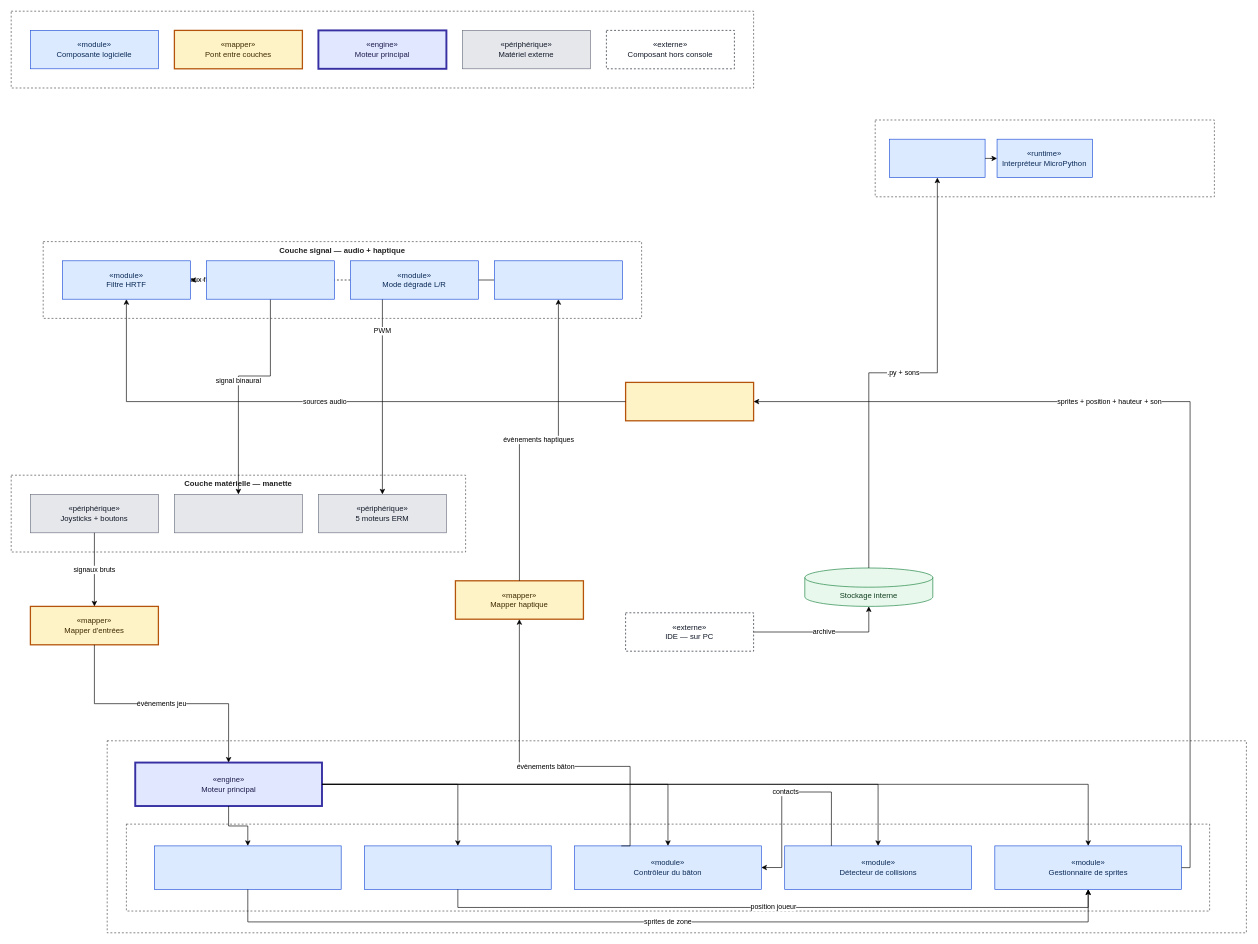
Image size: 1258x944. Some labels were removed from this diagram. The box of each missing label's shape, as (x1, y1, x2, y2) in pixels:
Couche application — mini-jeux utilisateur: (875, 119, 1214, 197)
Couche cœur du jeu — Game Engine: (107, 740, 1246, 933)
Légende: (11, 11, 754, 88)
«mapper» Mapper sprite → audio: (625, 381, 754, 421)
«module» Chargeur de mini-jeu: (889, 139, 985, 178)
«module» Contrôleur du joueur: (364, 845, 551, 889)
«module» Gestionnaire de scènes: (154, 845, 341, 889)
«module» Mixeur audio: (206, 260, 334, 299)
«module» Module haptique: (494, 260, 622, 299)
«périphérique» Casque stéréo: (174, 494, 302, 533)
